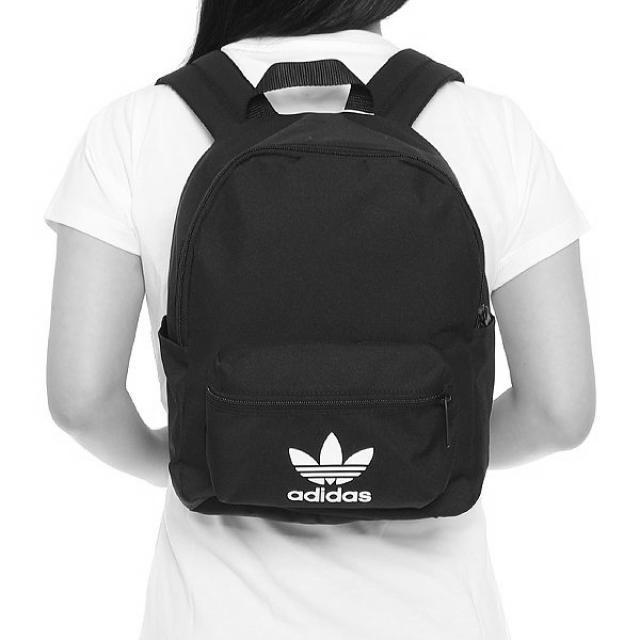Adidas: (280, 426, 379, 491)
